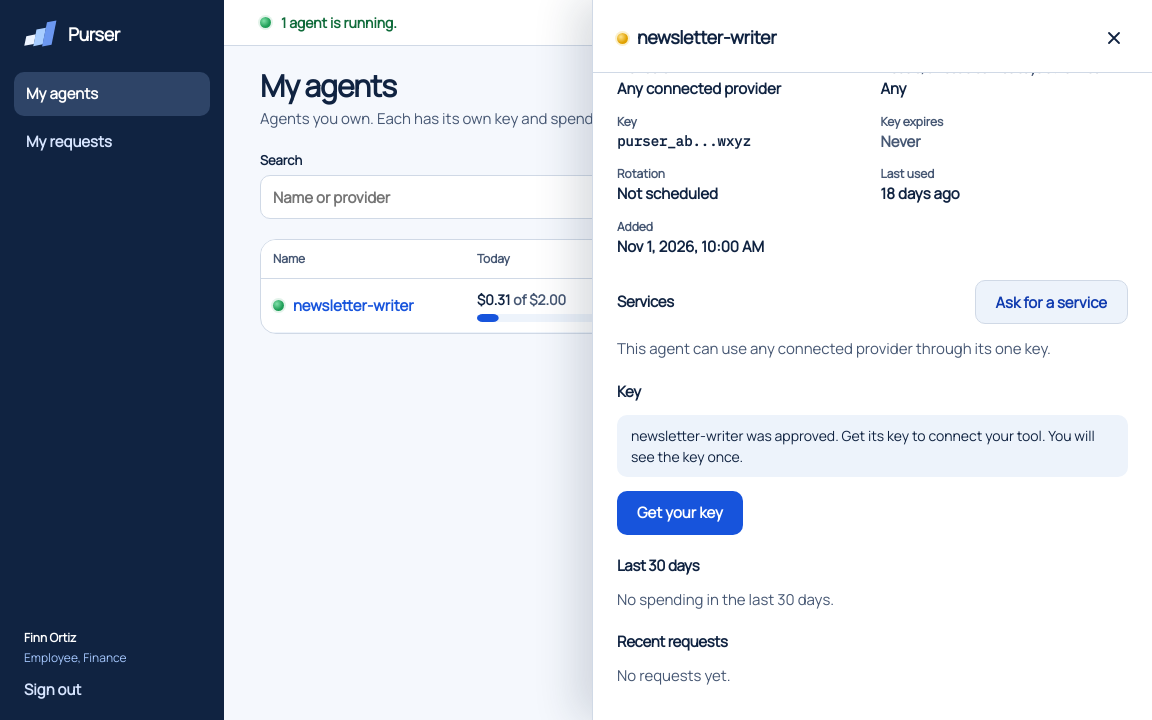
Scenario: my agents › lets an owner collect the key of an approved agent and ask for more budget
This screenshot has width=1152, height=720.
(page scrolled)
Expected: the text "was approved. Get its key" is shown, [631,426,1095,466]
Click the button "Get your key" at (680, 512), box [617,490,743,534]
(page scrolled)
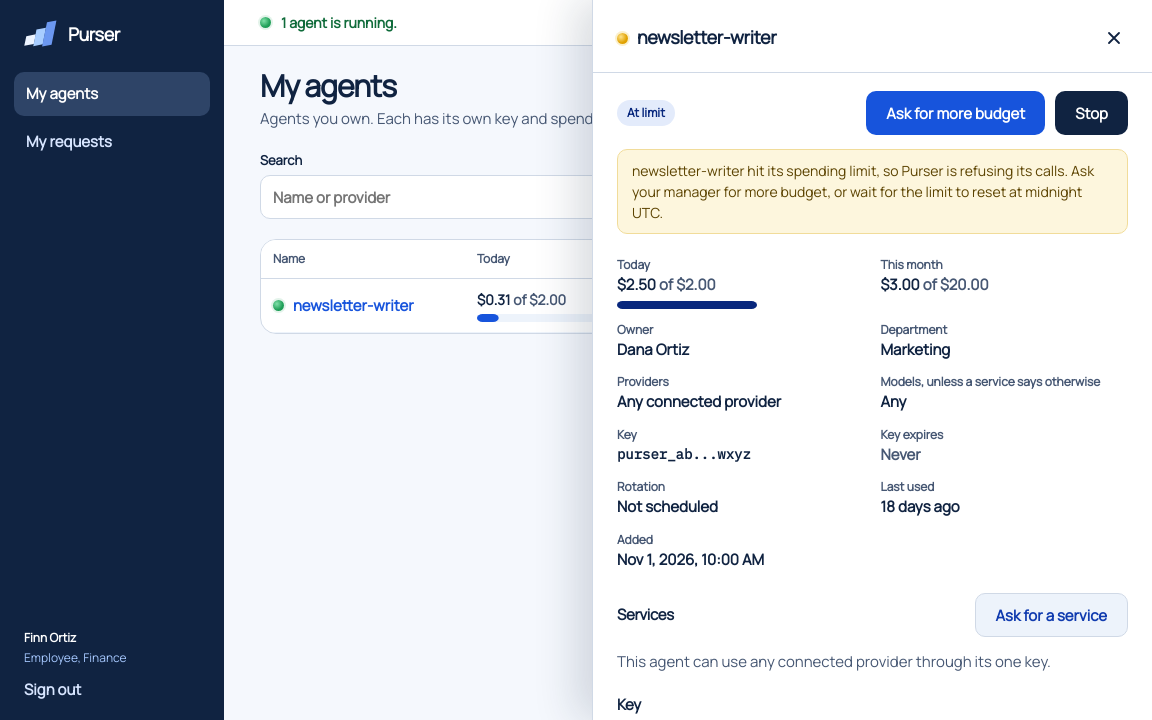
Result: the text "Ask your manager for more budget" is shown at [632,161,1094,222]
Click the button "Ask for more budget" at (956, 113), box [866,91,1045,135]
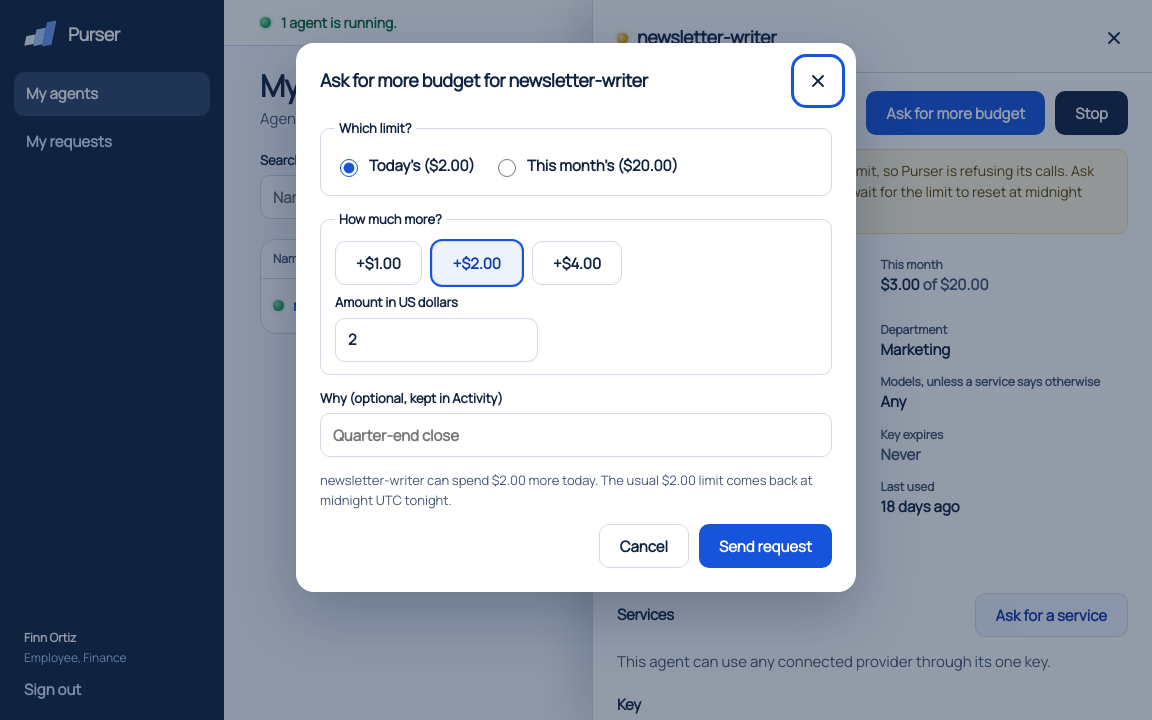
Click the button "Send request" at (766, 546), box [699,524,832,568]
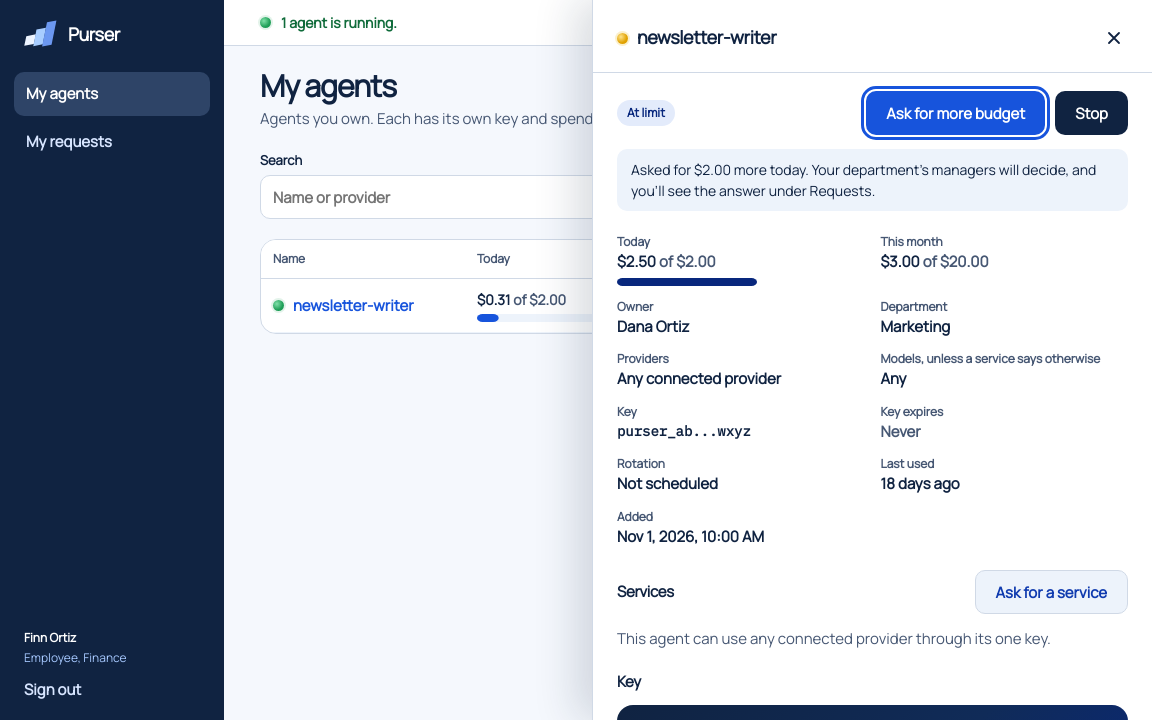
Result: the text "Your department's managers will decide" is shown at [631,160,1096,200]
